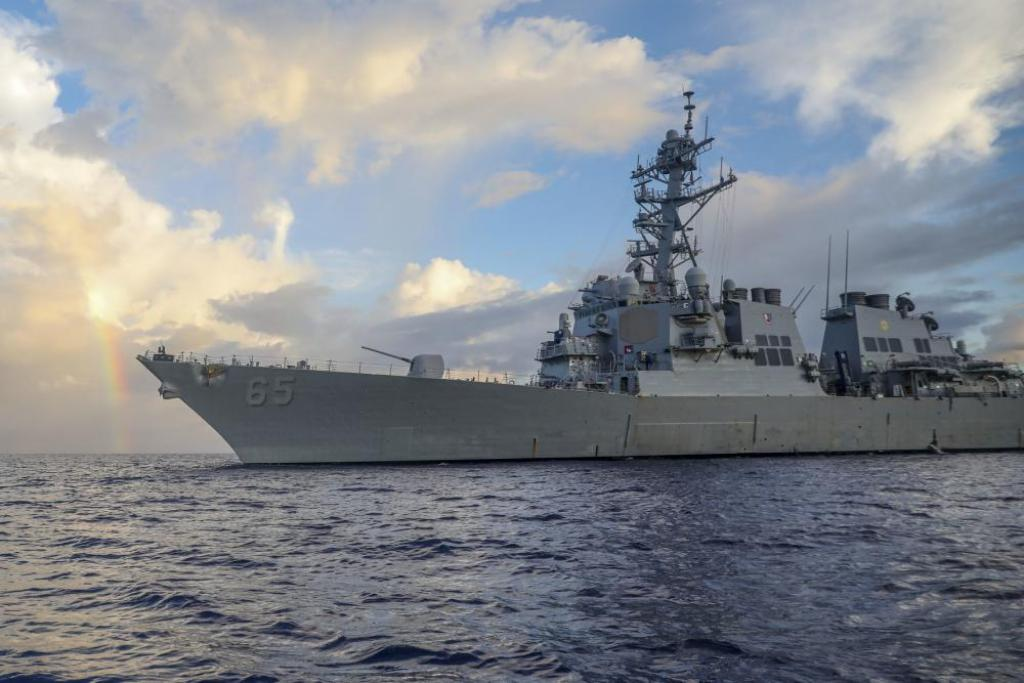Warship: (132, 82, 1024, 474)
